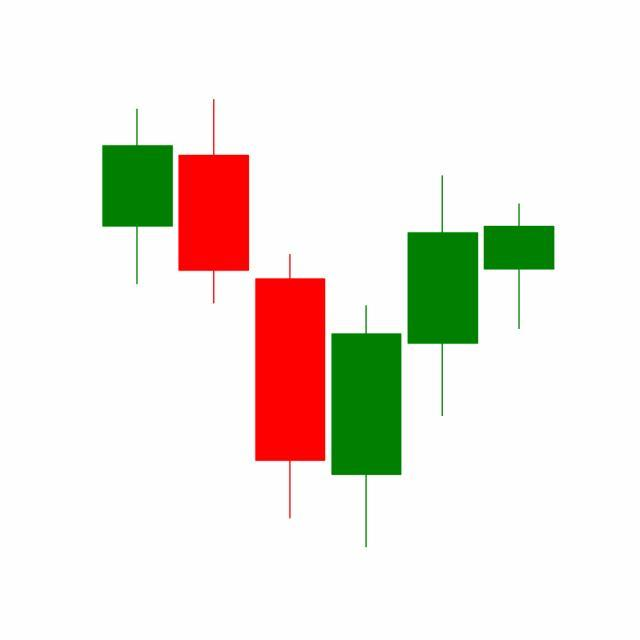Advance Block: (326, 171, 555, 549)
